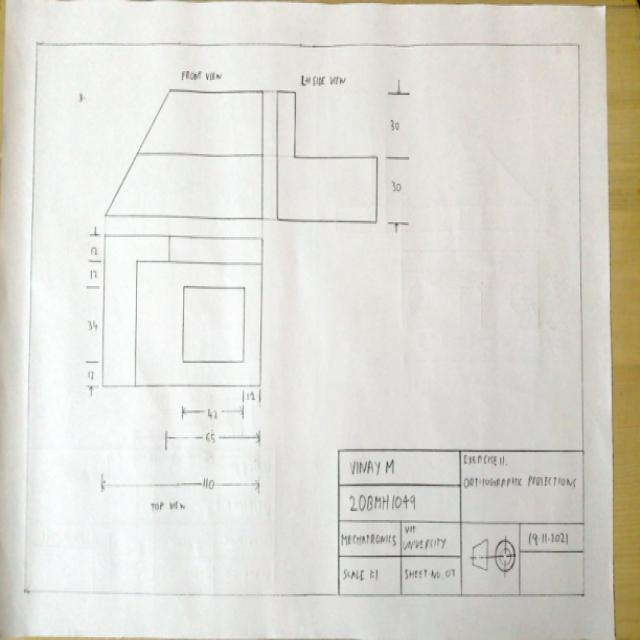Drawings: (73, 226, 270, 405), (106, 85, 267, 228), (272, 87, 383, 228)
